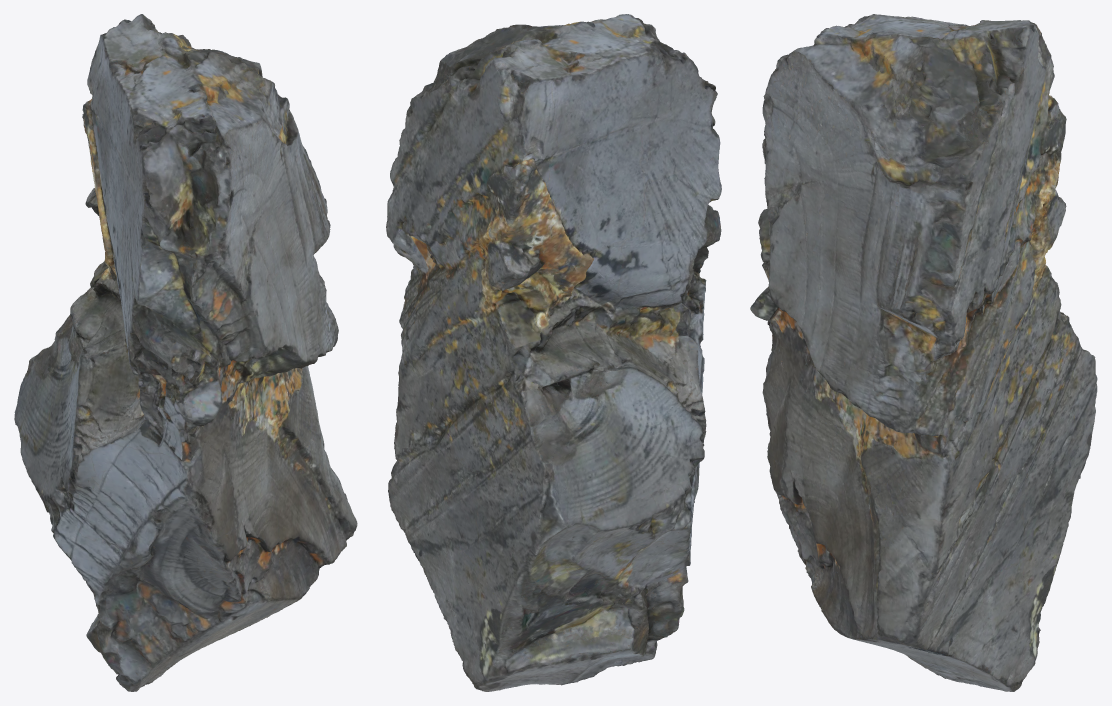
File: shungite.glb
3 views of the same model, side by side, from view 1: azimuth 30°, elevation 25°; view 2: azimuth 150°, elevation 25°; view 3: azimuth 270°, elevation 25° (orthographic). The views are drawn at different scales.
Parts seen in each view (by area): view 1: Object_2; view 2: Object_2; view 3: Object_2.
Part boxes in pixels (x1,y1,x2,y2): Object_2: (14,14,357,691); Object_2: (386,14,721,691); Object_2: (750,14,1097,691).
Size of the model in its own units: 22.32 by 45.28 by 21.54.
Materials: 1 (1 with a texture image).
